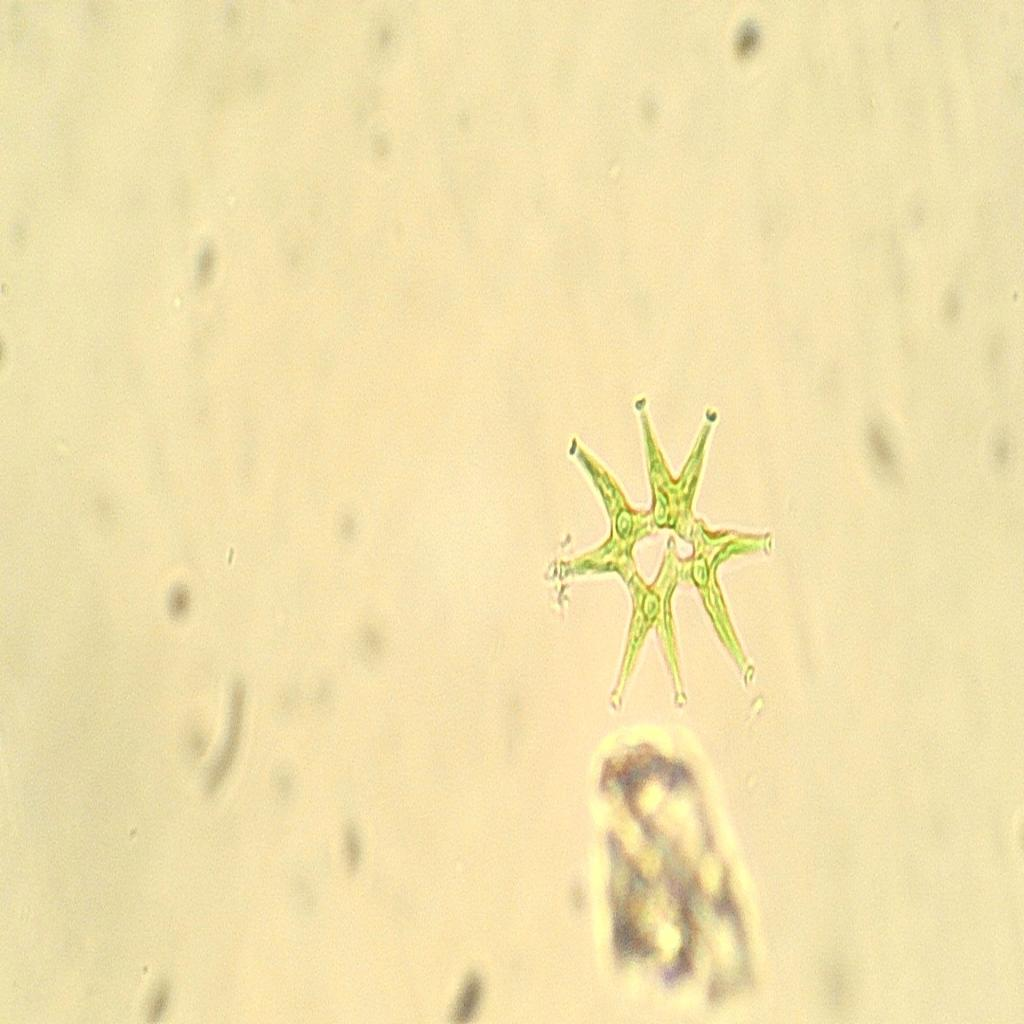Pediastrum_75FO: (534, 387, 792, 735)
